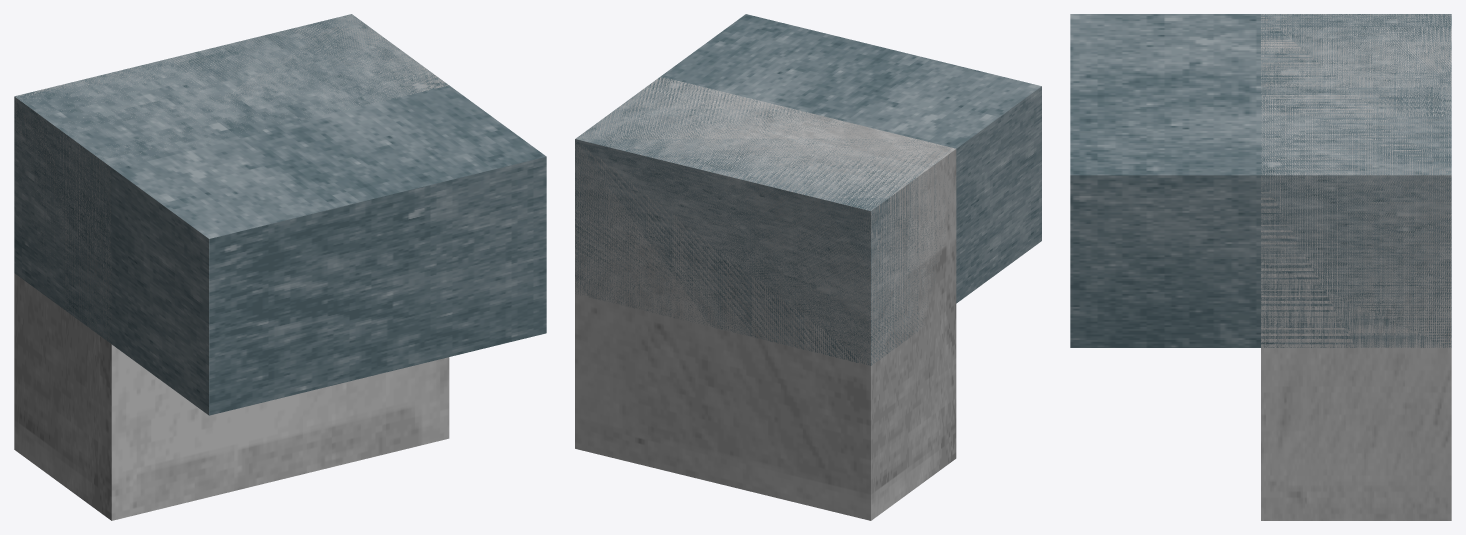
File: PAREDECHAOEDGAR.glb
The picture shows the model from 3 angles, left to right: view 1: azimuth 30°, elevation 25°; view 2: azimuth 150°, elevation 25°; view 3: azimuth 270°, elevation 25°; orthographic projection. The views are drawn at different scales.
Visible parts, largest first — view 1: chao-col, paredebege-col; view 2: paredebege-col, chao-col; view 3: chao-col, paredebege-col.
Part boxes in pixels (<box>): chao-col: <box>14,14,546,415</box>; paredebege-col: <box>14,14,449,520</box>; paredebege-col: <box>575,77,956,520</box>; chao-col: <box>575,14,1041,365</box>; chao-col: <box>1070,14,1451,347</box>; paredebege-col: <box>1261,14,1451,520</box>.
Bounding box in the file's own units: 2 × 2 × 2.
Materials: 2 (2 with a texture image).
